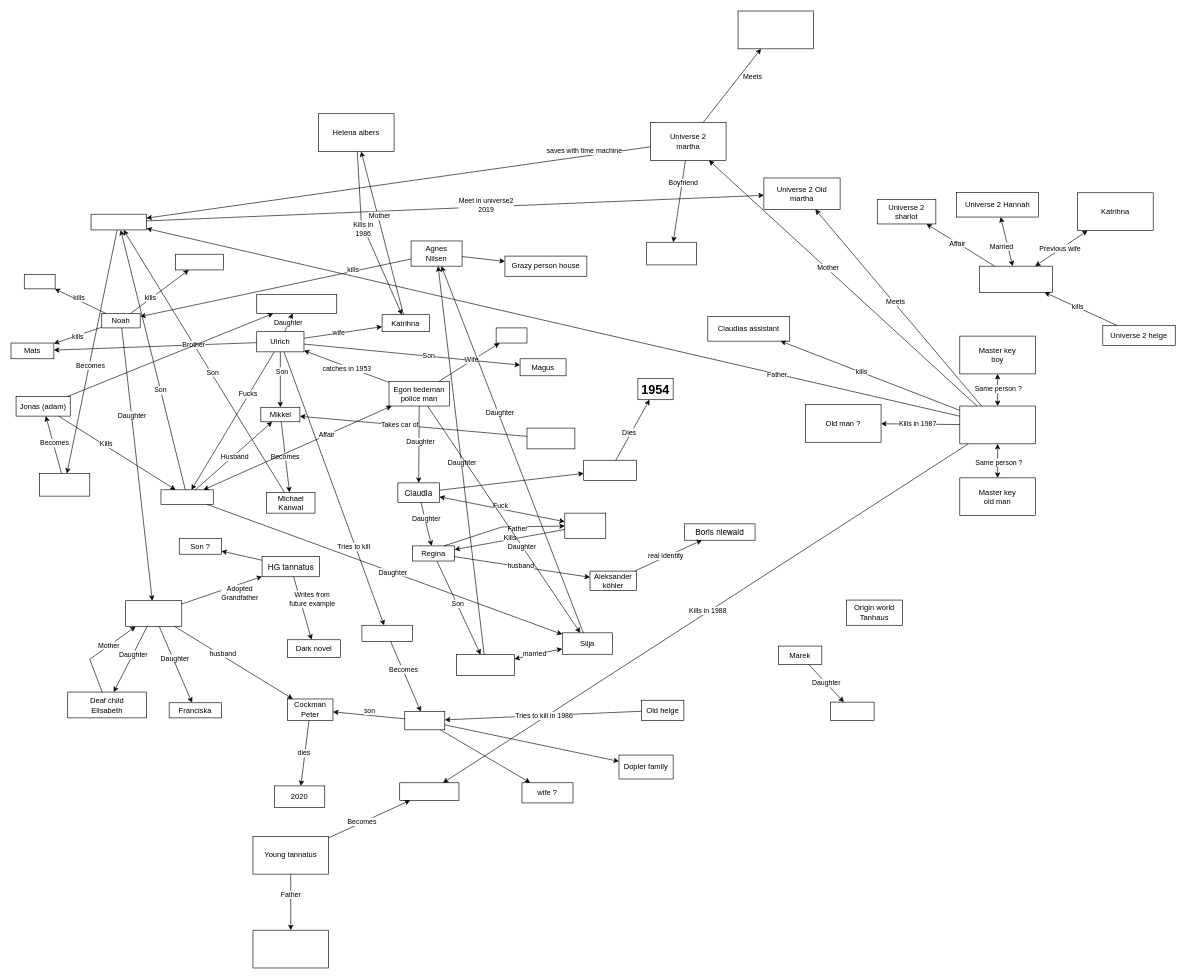
Some shapes in this 1186 by 979 pixel diagram are drawn without their labels. The box of each missing label's shape, as (x1, y1, x2, y2) in pixels:
Bartoz: (456, 654, 514, 675)
Doris: (495, 327, 527, 343)
Eric: (175, 254, 223, 270)
Father telling about travellers: (252, 930, 329, 968)
Hannah: (160, 489, 213, 504)
Helge: (404, 711, 445, 730)
Ines some nurse: (526, 427, 575, 449)
Jonas (homeless): (39, 473, 90, 496)
Jonas (young): (90, 214, 146, 230)
Kilian: (646, 242, 696, 265)
Man Jonas year: 1888: (737, 10, 814, 49)
Martha(emotional lady): (256, 294, 337, 313)
Old claudia: (583, 460, 637, 480)
Old tannatus: (399, 782, 459, 800)
Origin ? Master key man: (959, 405, 1035, 444)
Police lady sharlot: (125, 600, 182, 627)
sharlot: (830, 702, 874, 720)
Tronte nilsen: (564, 513, 606, 538)
Universe 2 ulrich: (979, 266, 1052, 292)
Yansin: (24, 274, 55, 289)
Young helge: (361, 625, 412, 642)
